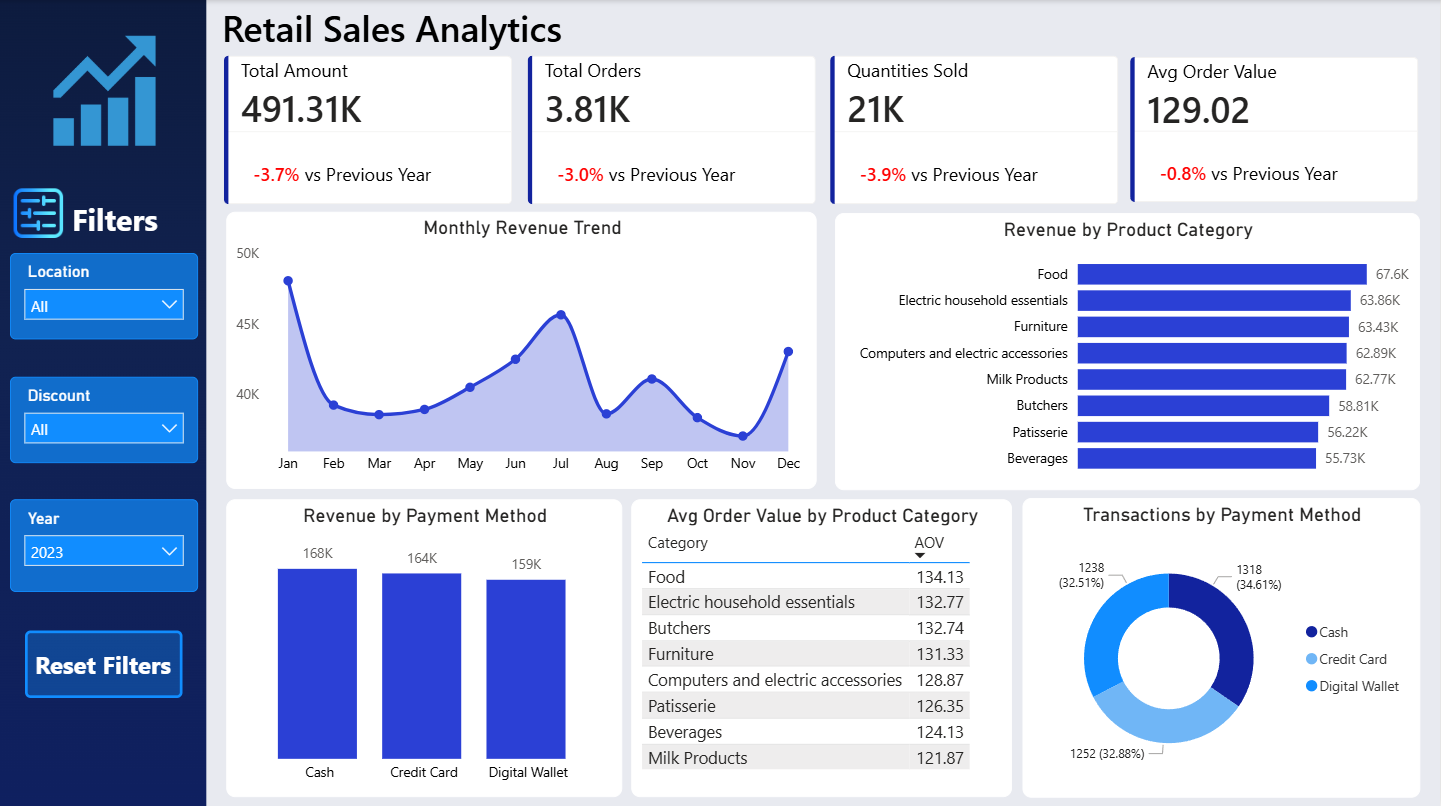

What the dashboard file says about the page in this screenshot:
{"tool":"powerbi","page":{"name":"Page 1","canvas":[1280,720],"ordinal":0},"visuals":[{"type":"textbox","box":[191.9,0,340.7,60.5],"z":0},{"type":"areaChart","title":"Monthly Revenue Trend","fields":{"Y":["cleaned_data.Total Amount"],"Category":["cleaned_data.Month Abbreviation"]},"box":[201.2,190,525,246.2],"z":1000},{"type":"clusteredBarChart","title":"Revenue by Product Category","fields":{"Y":["cleaned_data.Total Amount"],"Category":["cleaned_data.Category"]},"box":[742.5,191.2,520,246.2],"z":2000},{"type":"tableEx","title":"Avg Order Value by Product Category","fields":{"Values":["cleaned_data.Category","cleaned_data.Avg Transaction Value"]},"box":[561.2,445,338.8,265],"z":3000},{"type":"clusteredColumnChart","title":"Revenue by Payment Method","fields":{"Category":["cleaned_data.Payment Method"],"Y":["cleaned_data.Total Amount"]},"box":[201.5,445.3,351.8,264.9],"z":4000},{"type":"donutChart","title":"Transactions by Payment Method","fields":{"Category":["cleaned_data.Payment Method"],"Y":["CountNonNull(cleaned_data.Payment Method)"]},"box":[909.3,444.2,353.5,266.3],"z":5000},{"type":"slicer","fields":{"Values":["cleaned_data.Transaction Date.Variation.Date Hierarchy.Year"]},"box":[8.9,445.3,167,82.4],"z":6000},{"type":"slicer","fields":{"Values":["cleaned_data.Discount Applied"]},"box":[8.9,336.2,167,76.8],"z":7000},{"type":"slicer","fields":{"Values":["cleaned_data.Location"]},"box":[8.9,227.1,167,76.8],"z":8000},{"type":"cardVisual","fields":{"Data":["cleaned_data.Total Amount"]},"box":[182,34.9,290,166.3],"z":9000},{"type":"cardVisual","fields":{"Data":["Count(cleaned_data.Transaction ID)"]},"box":[452.3,34.9,290,166.3],"z":10000},{"type":"cardVisual","fields":{"Data":["cleaned_data.Quantites Sold"]},"box":[721,34.9,290,166.3],"z":11000},{"type":"cardVisual","fields":{"Data":["cleaned_data.Avg Transaction Value"]},"box":[988,36,290,164],"z":12000},{"type":"image","box":[8.9,164.8,50.1,53.4],"z":13000},{"type":"textbox","box":[58.8,173.8,121.2,53.8],"z":14000},{"type":"actionButton","box":[22.5,562.5,140,60],"z":15000},{"type":"image","box":[34.5,30.1,116.9,104.6],"z":16000}]}

Visuals, with their boxes in screenshot pixels (x1, y1, x2, y2), scaled from the page's 1280x720 canvas onto the 1441x806 screenshot:
textbox: bbox(216, 0, 600, 68)
"Monthly Revenue Trend" areaChart: bbox(227, 213, 818, 488)
"Revenue by Product Category" clusteredBarChart: bbox(836, 214, 1421, 490)
"Avg Order Value by Product Category" tableEx: bbox(632, 498, 1013, 795)
"Revenue by Payment Method" clusteredColumnChart: bbox(227, 498, 623, 795)
"Transactions by Payment Method" donutChart: bbox(1024, 497, 1422, 795)
slicer - cleaned_data.Transaction Date.Variation.Date Hierarchy.Year: bbox(10, 498, 198, 591)
slicer - cleaned_data.Discount Applied: bbox(10, 376, 198, 462)
slicer - cleaned_data.Location: bbox(10, 254, 198, 340)
cardVisual - cleaned_data.Total Amount: bbox(205, 39, 531, 225)
cardVisual - Count(cleaned_data.Transaction ID): bbox(509, 39, 836, 225)
cardVisual - cleaned_data.Quantites Sold: bbox(812, 39, 1138, 225)
cardVisual - cleaned_data.Avg Transaction Value: bbox(1112, 40, 1439, 224)
image: bbox(10, 184, 66, 244)
textbox: bbox(66, 195, 203, 255)
actionButton: bbox(25, 630, 183, 697)
image: bbox(39, 34, 170, 151)
